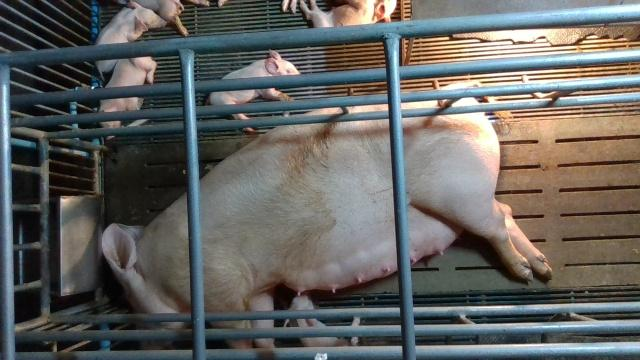piglet: (205, 49, 300, 131), (96, 0, 168, 72), (101, 57, 156, 141), (286, 294, 350, 347), (299, 0, 396, 28)
sow-sleep-lactate: (101, 80, 555, 350)
